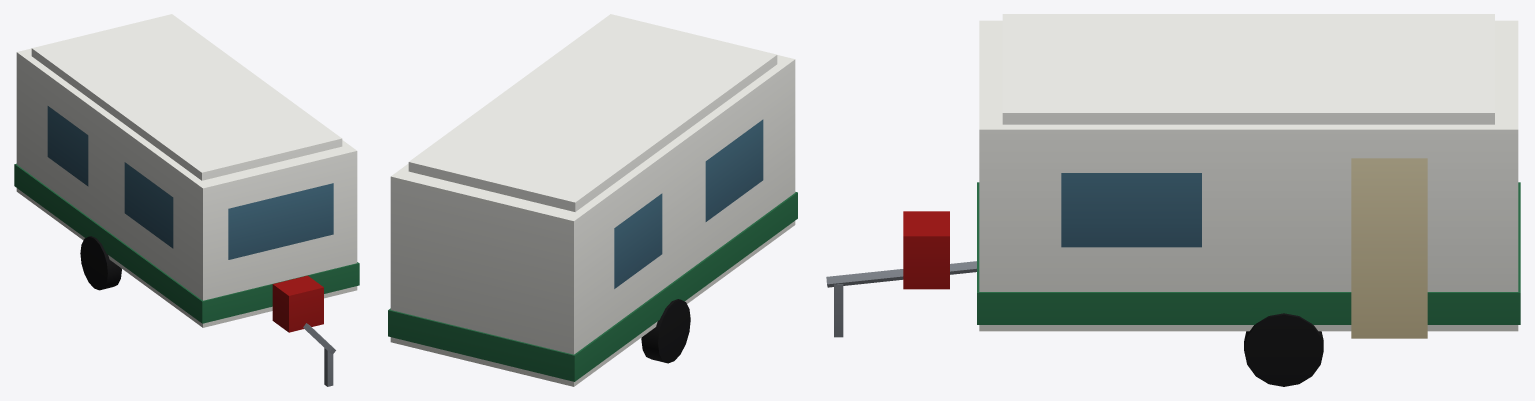
The model's file is Caravan.fbx.
The picture shows the model from 3 angles, left to right: view 1: azimuth 30°, elevation 25°; view 2: azimuth 150°, elevation 25°; view 3: azimuth 270°, elevation 25°; orthographic projection. The views are drawn at different scales.
Parts seen in each view (by area): view 1: Caravan_LOD0; view 2: Caravan_LOD0; view 3: Caravan_LOD0.
Boxes of the visible parts, x1=… form: Caravan_LOD0: x1=14, y1=14, x2=359, y2=386; Caravan_LOD0: x1=388, y1=14, x2=797, y2=386; Caravan_LOD0: x1=826, y1=14, x2=1520, y2=386.
Size of what is drawn, in the model's own units: 2.3 by 2.56 by 5.93.
1 material, 1 textured.
